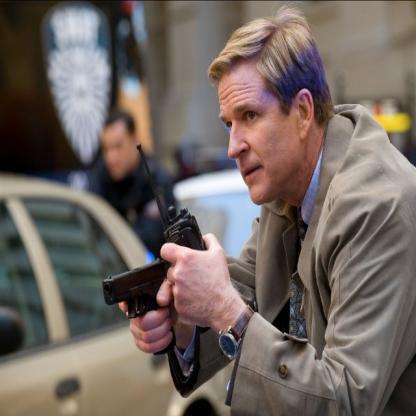gun: (94, 259, 183, 325)
